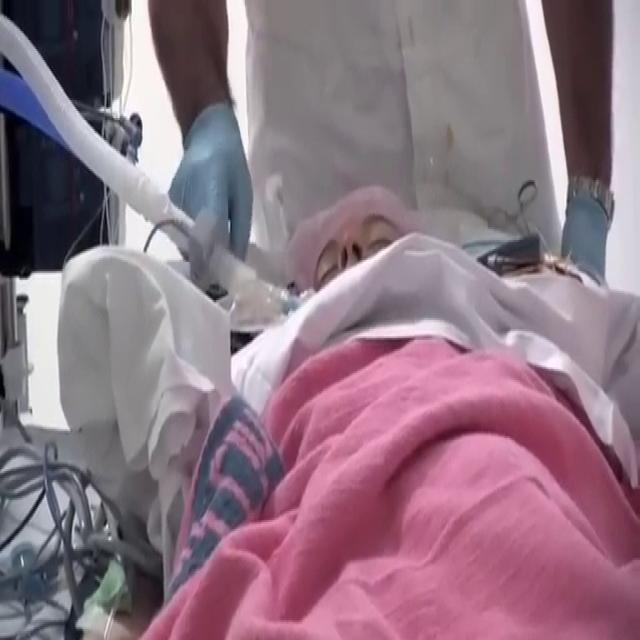patient: (118, 157, 640, 640)
